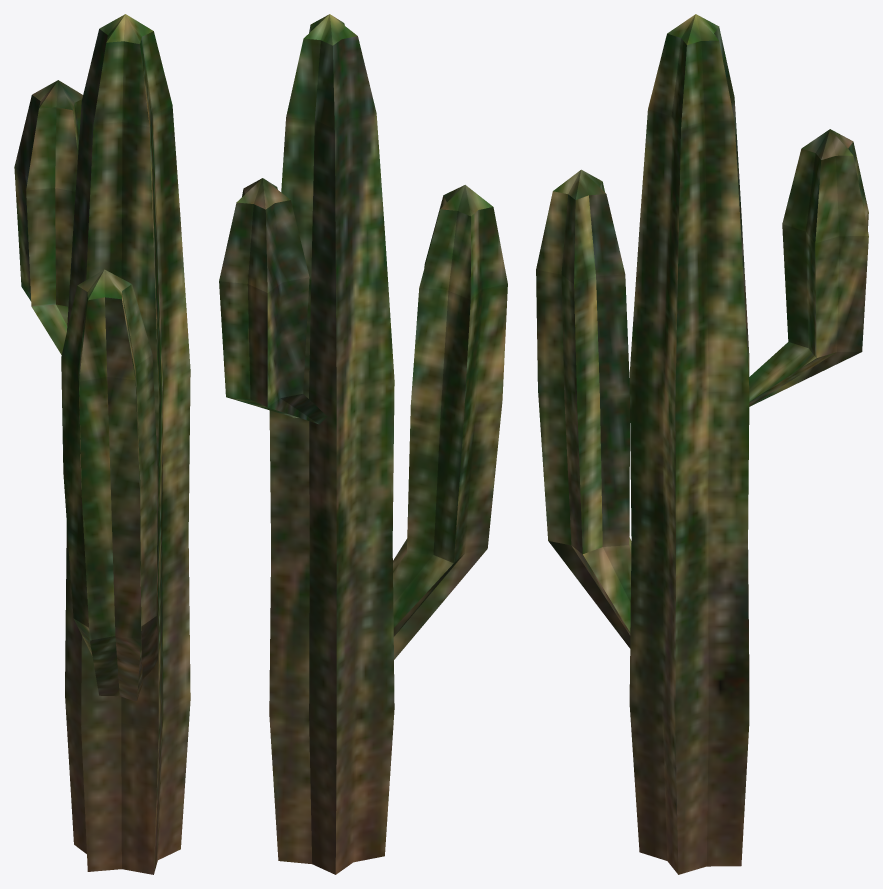
File: Desert_cactus_01.fbx
3 views of the same model, side by side, from view 1: azimuth 30°, elevation 25°; view 2: azimuth 150°, elevation 25°; view 3: azimuth 270°, elevation 25° (orthographic).
Visible parts, largest first — view 1: Desert_cactus_01; view 2: Desert_cactus_01; view 3: Desert_cactus_01.
Part boxes in pixels (box(x1,y1,x2,y2)): Desert_cactus_01: box(14, 14, 190, 874); Desert_cactus_01: box(219, 14, 507, 874); Desert_cactus_01: box(536, 14, 868, 874).
Bounding box in the file's own units: 124 × 594 × 214.
